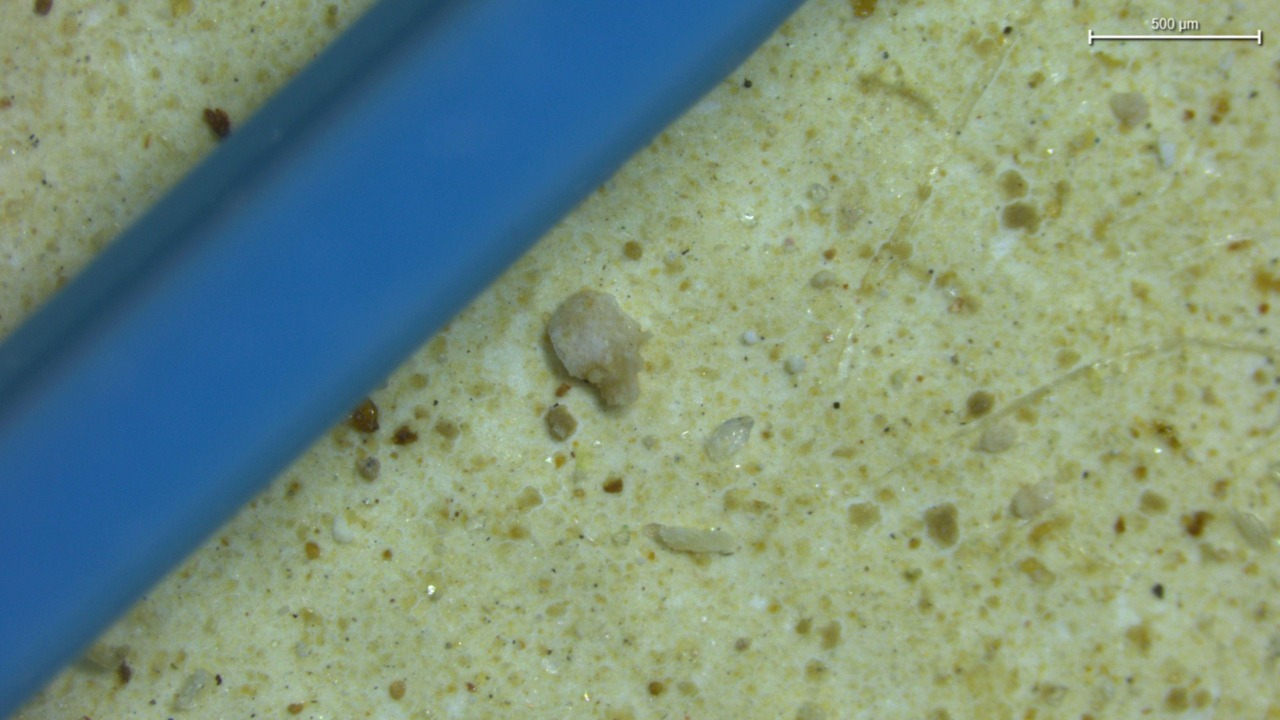microplastic_fragment: (547, 289, 651, 407), (645, 523, 736, 554), (705, 416, 754, 461)
